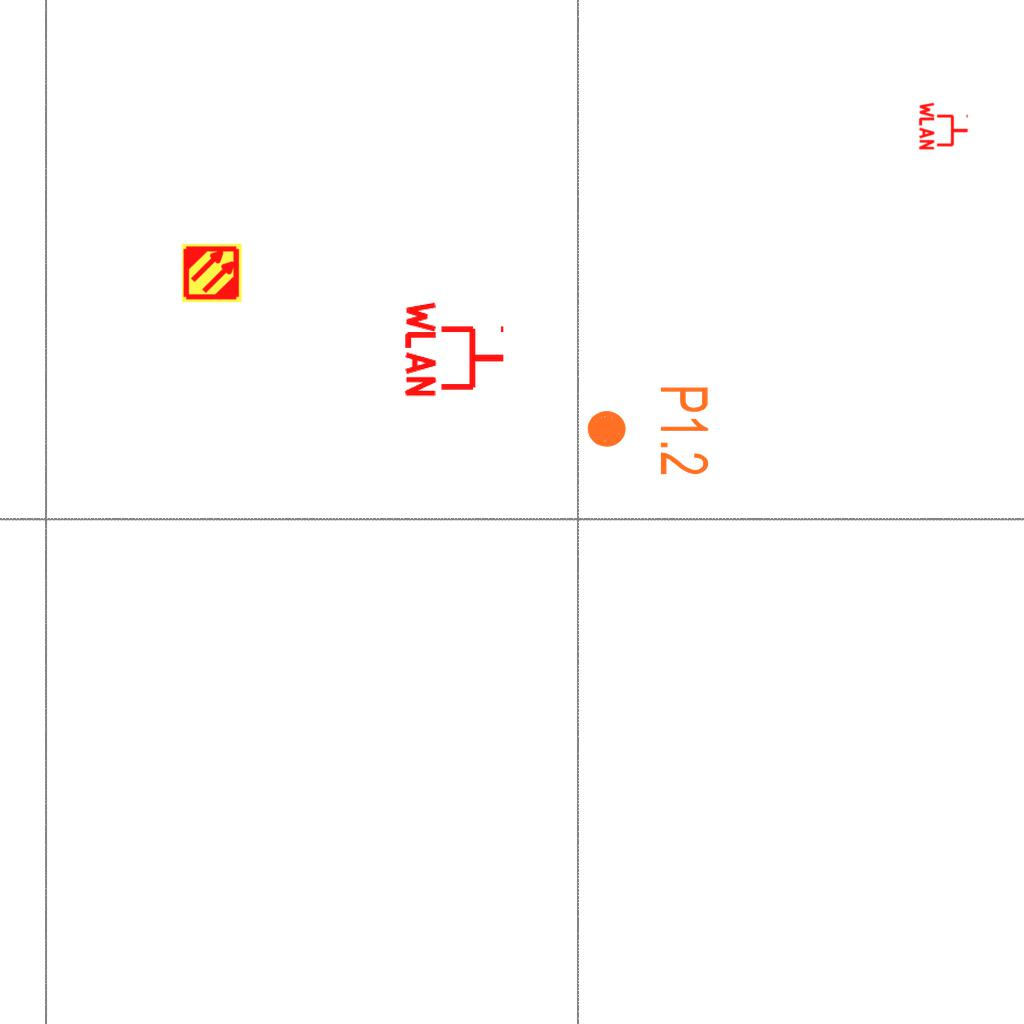ASR_Ansaugrauchmelder: (181, 242, 243, 304)
Downlight_LED_Einbauleuchten_Flur: (584, 384, 712, 477)
WLAN: (403, 297, 508, 401), (918, 100, 970, 152)
